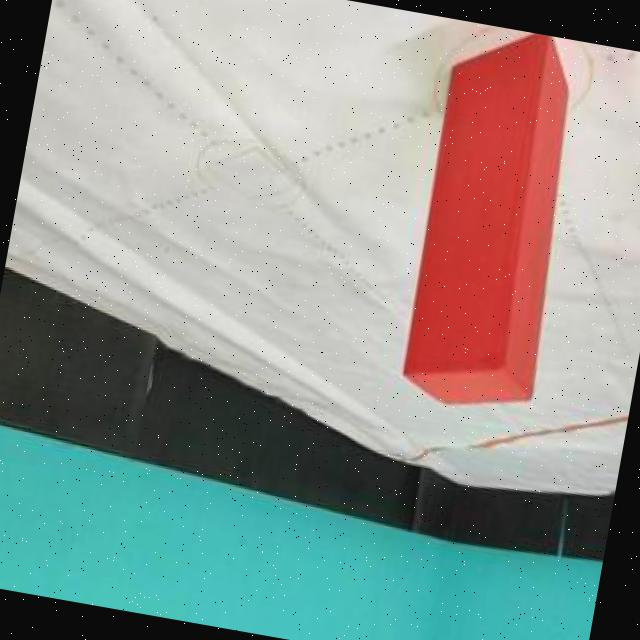redbox: (394, 20, 595, 421)
